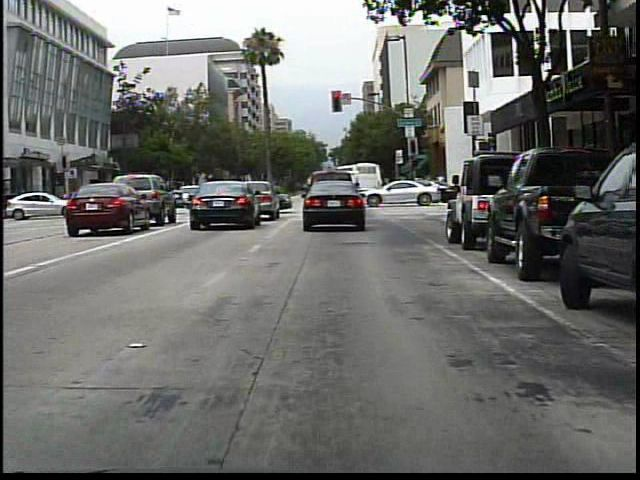person: (435, 171, 452, 201)
